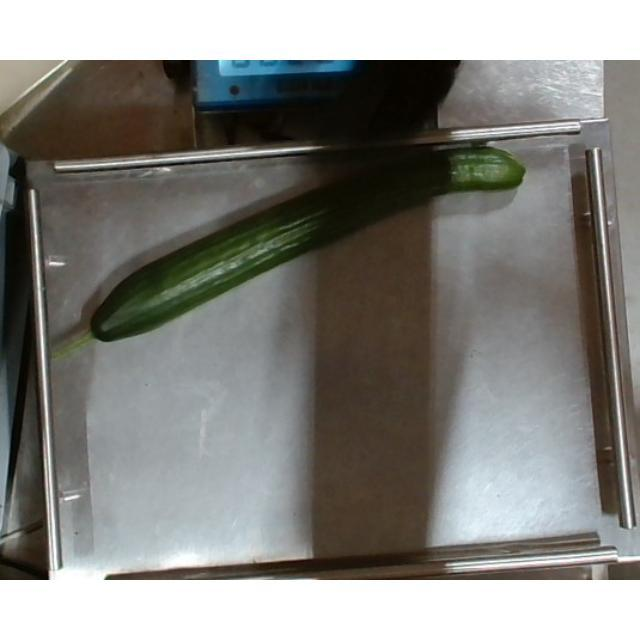cucumber: (51, 140, 526, 364)
